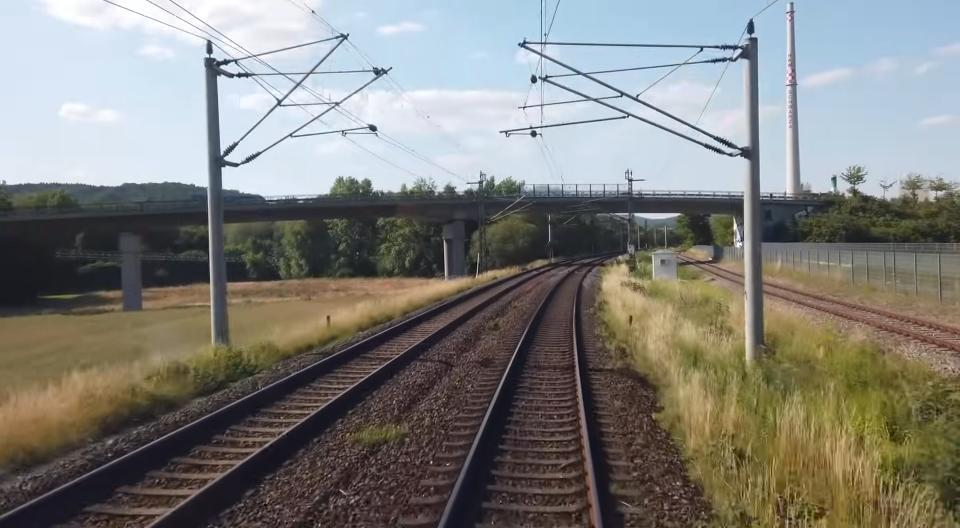Plant: (598, 264, 960, 528), (348, 425, 408, 447), (487, 318, 501, 330)
